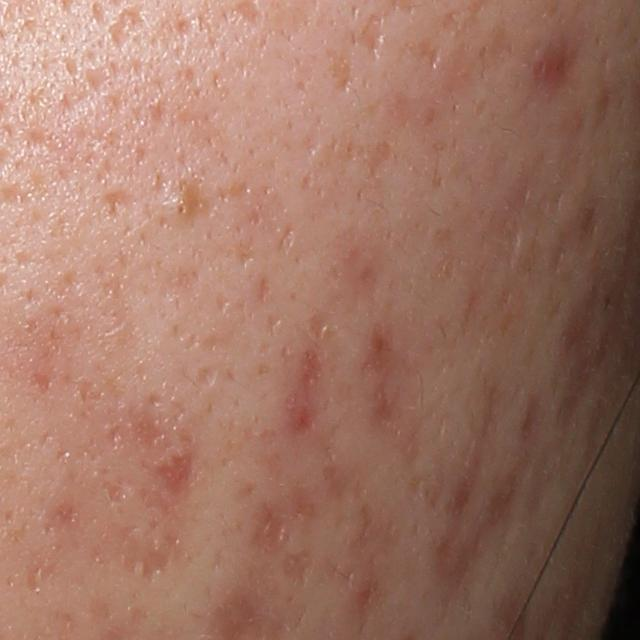atrophic_scar: (105, 3, 153, 55), (139, 535, 178, 585), (39, 498, 88, 533), (280, 549, 316, 590), (352, 12, 379, 56), (99, 189, 134, 222), (99, 480, 134, 505), (419, 39, 445, 72), (306, 311, 328, 346), (196, 363, 220, 392), (30, 369, 56, 395), (254, 270, 272, 306), (278, 224, 294, 257), (262, 312, 279, 336), (216, 295, 231, 316)
comedo: (170, 197, 194, 220)
papule: (526, 26, 581, 117), (351, 573, 374, 613)
